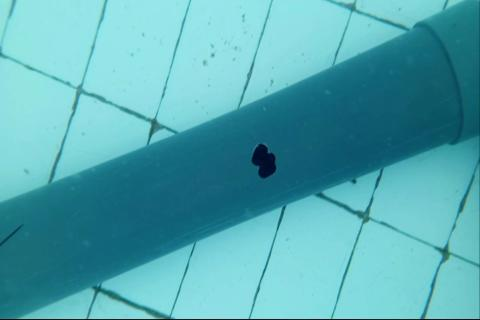kebocoran: (250, 141, 278, 181)
keretakan: (0, 221, 27, 249)
